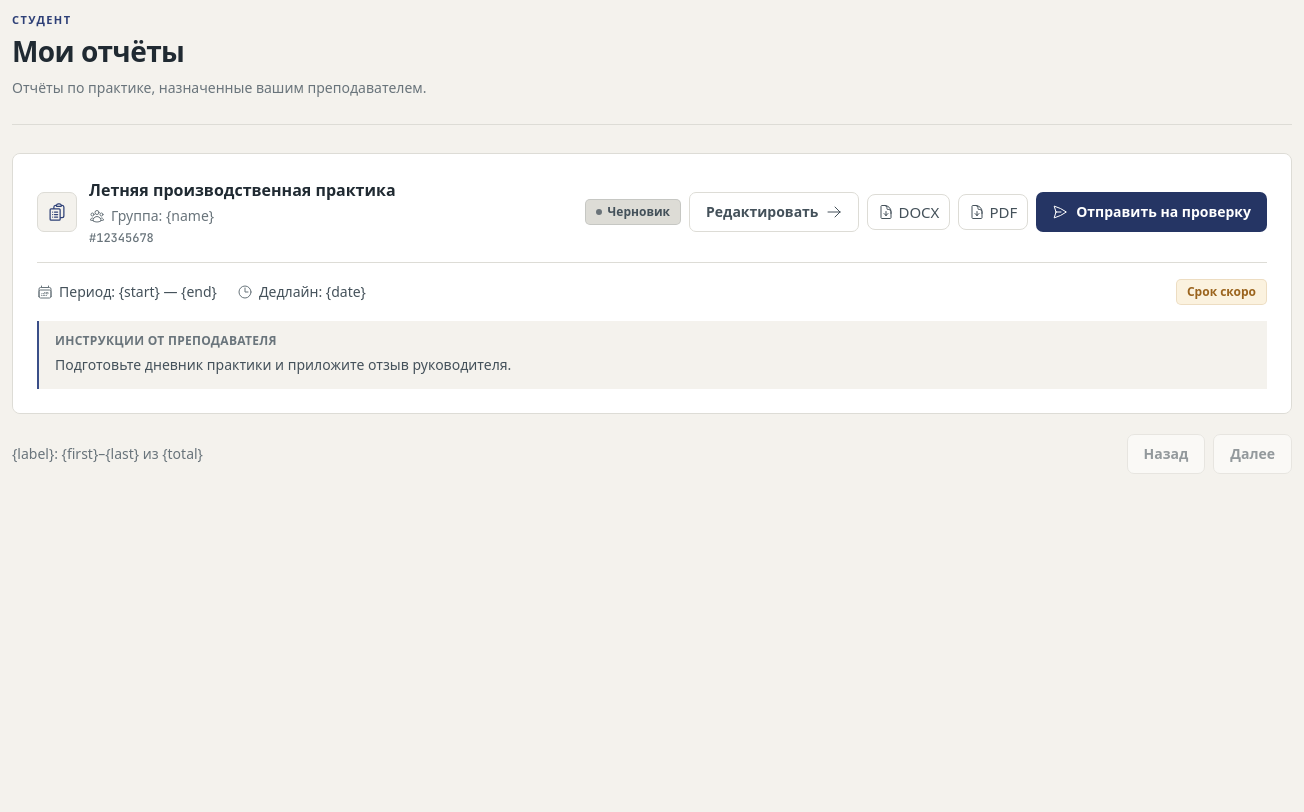
Test: StudentReportsPage submission › shows a validation checklist beside the report when submission returns 422
What coordinates should you click on to do the following:
click the button "Отправить на проверку"
I would click on:
 (1152, 212)
Its box is [1036,192,1267,232].
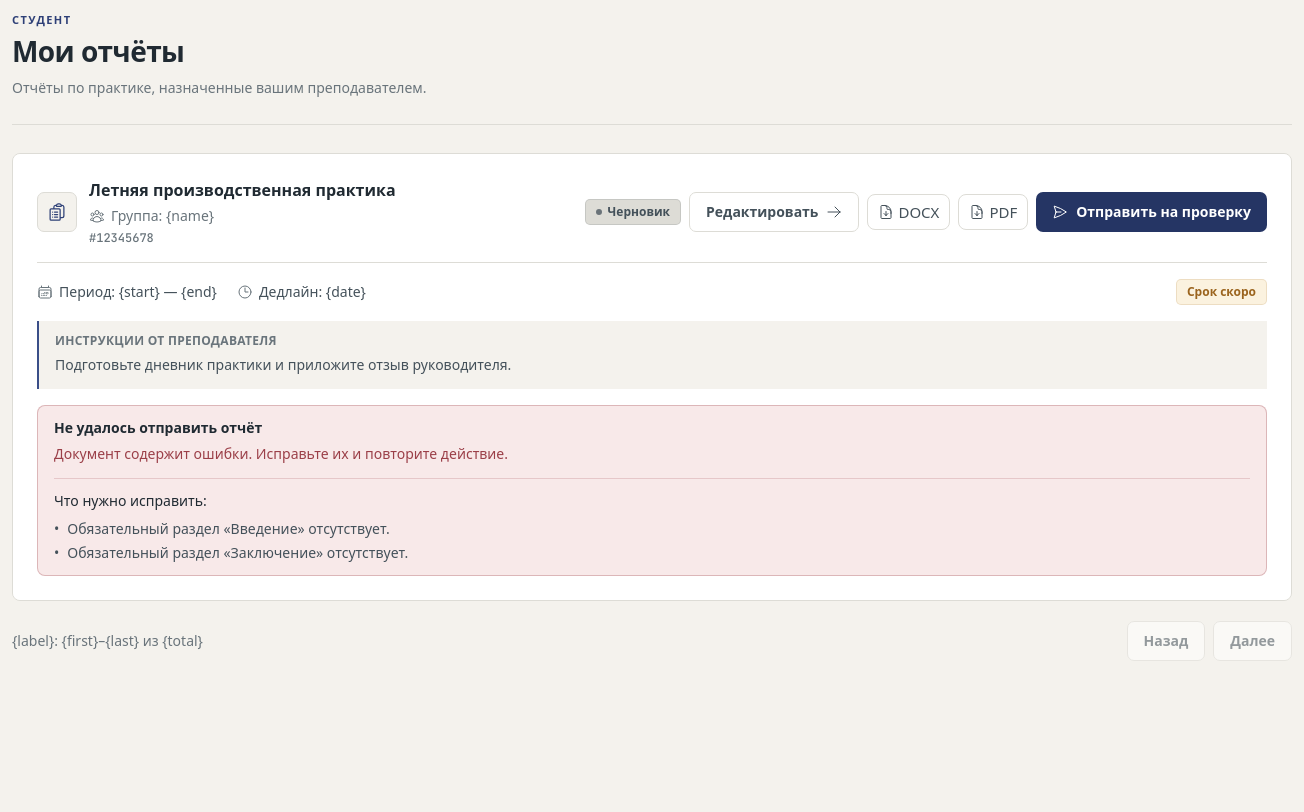
Expected: the message that starts with "Не удалось отправить отчёт" is shown, [54,418,262,437]
Expected: the message that starts with "Не удалось отправить отчёт" shows "Что нужно исправить:", [54,491,207,510]
Expected: the message that starts with "Не удалось отправить отчёт" shows "Обязательный раздел «Введение» отсутствует.", [67,519,390,538]
